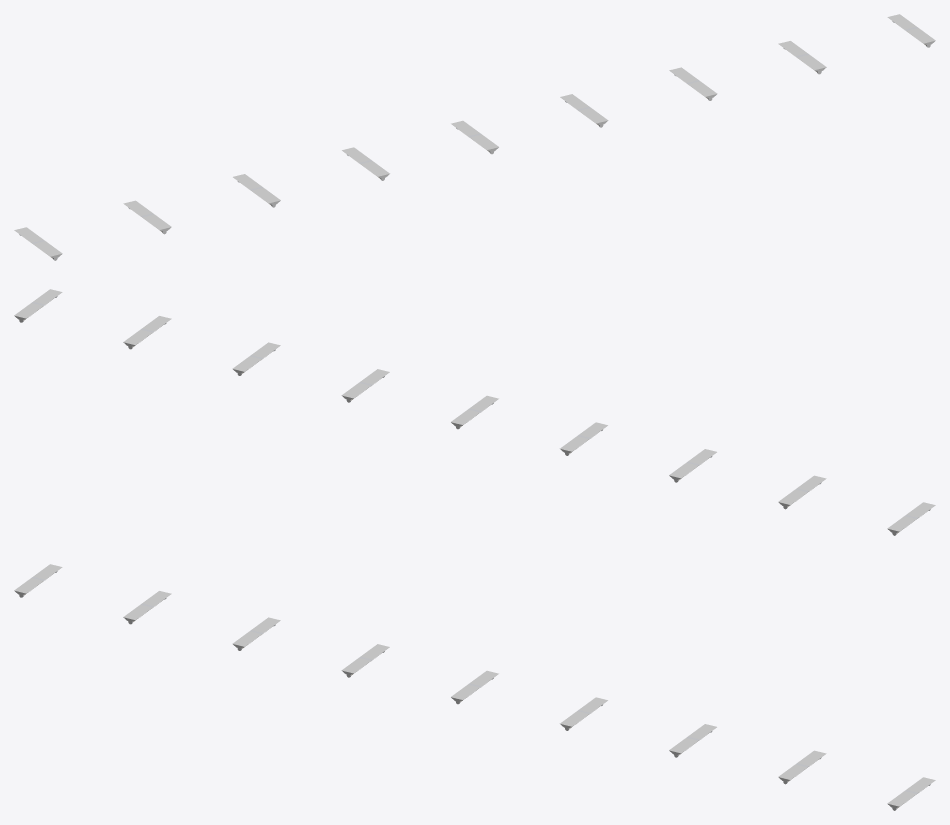
File: light_rouka.fbx
3 views of the same model, one above another, from view 1: azimuth 30°, elevation 25°; view 2: azimuth 150°, elevation 25°; view 3: azimuth 330°, elevation 25° (orthographic).
Visible parts, largest first — view 1: group9_light_rouka; view 2: group9_light_rouka; view 3: group9_light_rouka.
Boxes of the visible parts, <box> form: group9_light_rouka: <box>14,14,935,260</box>; group9_light_rouka: <box>14,289,935,535</box>; group9_light_rouka: <box>14,564,935,810</box>.
Bounding box in the file's own units: 48.69 × 0.3255 × 3.45.
